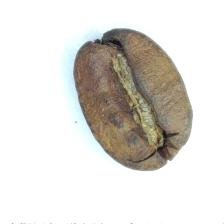NG: (88, 33, 171, 164)
